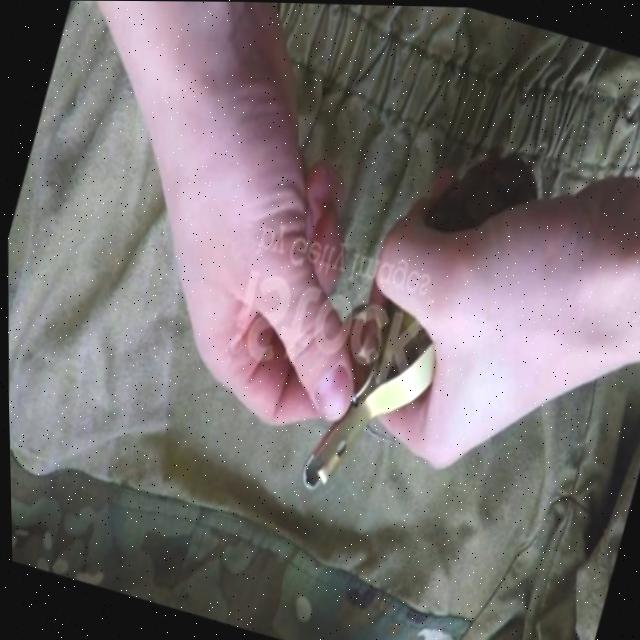grenade: (285, 108, 563, 535)
